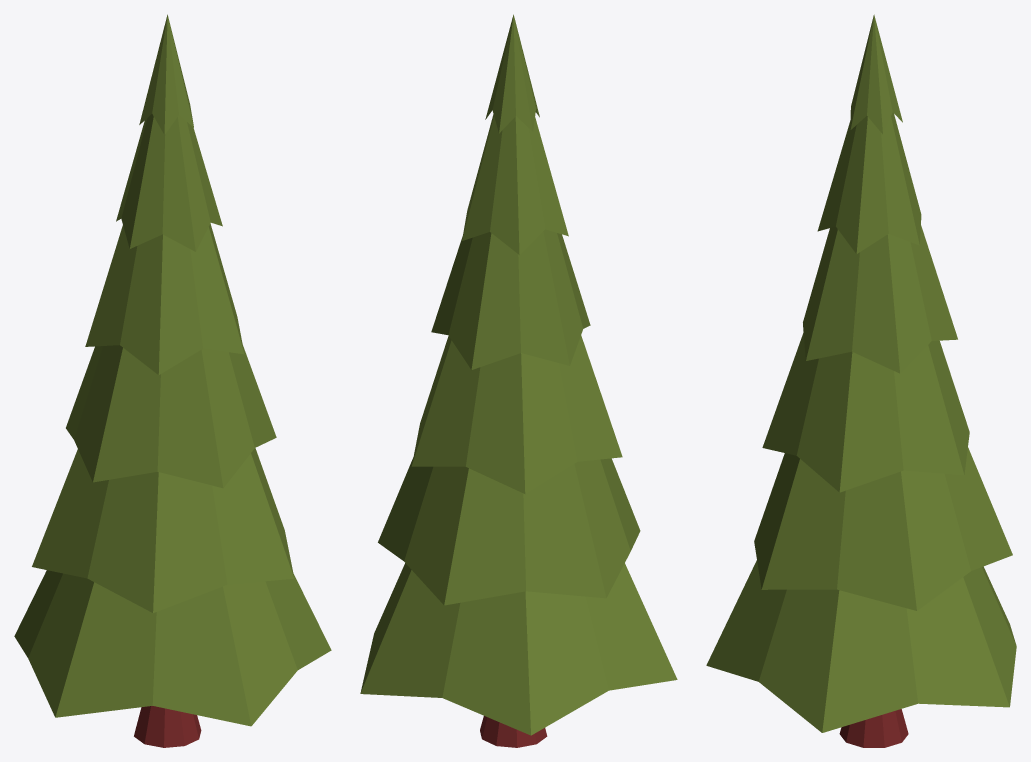
File: Tree03.glb
3 renders of one model, left to right at view 1: azimuth 30°, elevation 25°; view 2: azimuth 150°, elevation 25°; view 3: azimuth 270°, elevation 25°, orthographic.
Visible parts, largest first — view 1: Tree02; view 2: Tree02; view 3: Tree02.
Boxes of the visible parts, x1,y1,x2,y2 form: Tree02: (14, 14, 331, 747); Tree02: (360, 14, 677, 747); Tree02: (706, 14, 1016, 747).
Bounding box in the file's own units: 5.81 × 14.45 × 5.65.
